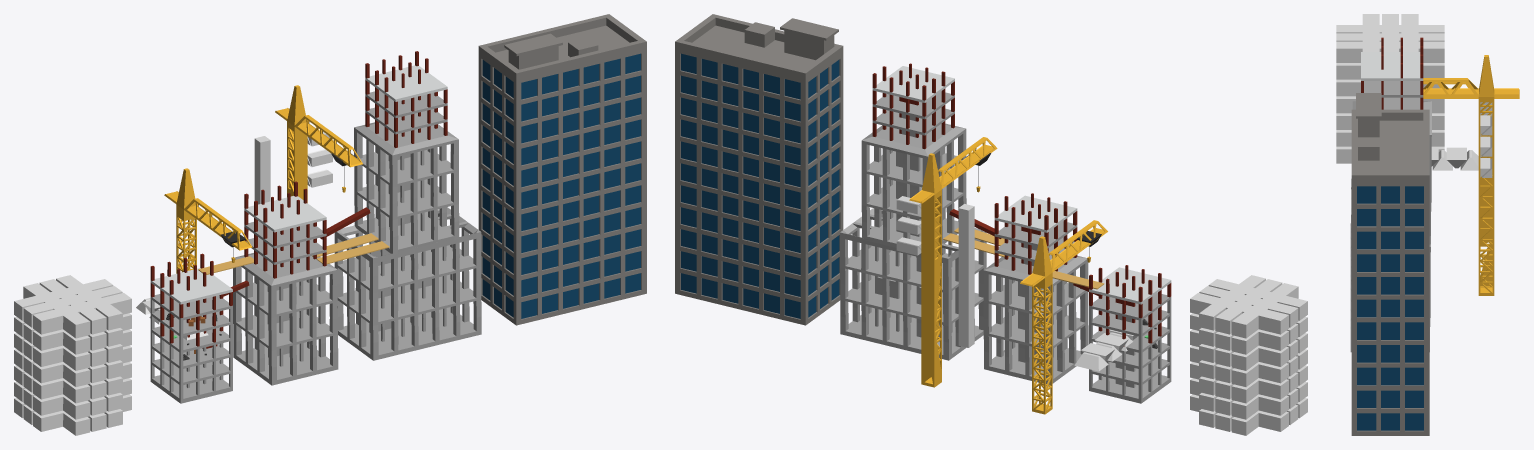
The model's file is BatimentConstruGlobal.fbx.
3 views of the same model, side by side, from view 1: azimuth 30°, elevation 25°; view 2: azimuth 150°, elevation 25°; view 3: azimuth 270°, elevation 25° (orthographic). The views are drawn at different scales.
Visible parts, largest first — view 1: Cube.019, BatimentConstru.003, Cube.005, BatimentConstru.001, BatimentConstru, BaseGrue.001, BaseGrue, HautGrue.001, HautGrue, Plane.003, Cube.003; view 2: Cube.019, BatimentConstru.003, Cube.005, BatimentConstru.001, BatimentConstru, BaseGrue.001, BaseGrue, Plane.003, Cube.004, HautGrue.001, HautGrue, Cube.003; view 3: Cube.019, Cube.005, BatimentConstru.003, BaseGrue.001, HautGrue.001, Cube.004, Cube.003, HautGrue.
Boxes of the visible parts, left/top/right/bottom form: Cube.019: left=478, top=14, right=646, bottom=325; BatimentConstru.003: left=334, top=51, right=481, bottom=360; Cube.005: left=14, top=275, right=131, bottom=435; BatimentConstru.001: left=233, top=181, right=338, bottom=385; BatimentConstru: left=150, top=253, right=232, bottom=403; BaseGrue.001: left=287, top=85, right=307, bottom=202; BaseGrue: left=176, top=168, right=196, bottom=273; HautGrue.001: left=275, top=108, right=362, bottom=167; HautGrue: left=164, top=191, right=252, bottom=250; Plane.003: left=254, top=136, right=270, bottom=204; Cube.003: left=307, top=130, right=332, bottom=187; Cube.019: left=675, top=14, right=843, bottom=325; BatimentConstru.003: left=840, top=63, right=986, bottom=360; Cube.005: left=1190, top=275, right=1307, bottom=435; BatimentConstru.001: left=983, top=193, right=1088, bottom=384; BatimentConstru: left=1089, top=265, right=1171, bottom=403; BaseGrue.001: left=921, top=153, right=941, bottom=387; BaseGrue: left=1032, top=236, right=1052, bottom=414; Plane.003: left=958, top=204, right=974, bottom=347; Cube.004: left=1074, top=329, right=1137, bottom=371; HautGrue.001: left=909, top=137, right=997, bottom=203; HautGrue: left=1020, top=220, right=1107, bottom=286; Cube.003: left=896, top=196, right=921, bottom=255; Cube.019: left=1351, top=93, right=1429, bottom=435; Cube.005: left=1336, top=14, right=1444, bottom=163; BatimentConstru.003: left=1350, top=37, right=1431, bottom=352; BaseGrue.001: left=1478, top=55, right=1494, bottom=295; HautGrue.001: left=1423, top=78, right=1519, bottom=96; Cube.004: left=1431, top=147, right=1478, bottom=170; Cube.003: left=1480, top=115, right=1492, bottom=177; HautGrue: left=1423, top=82, right=1519, bottom=98.
Size of the model in its own units: 18383 by 7884 by 4703.
